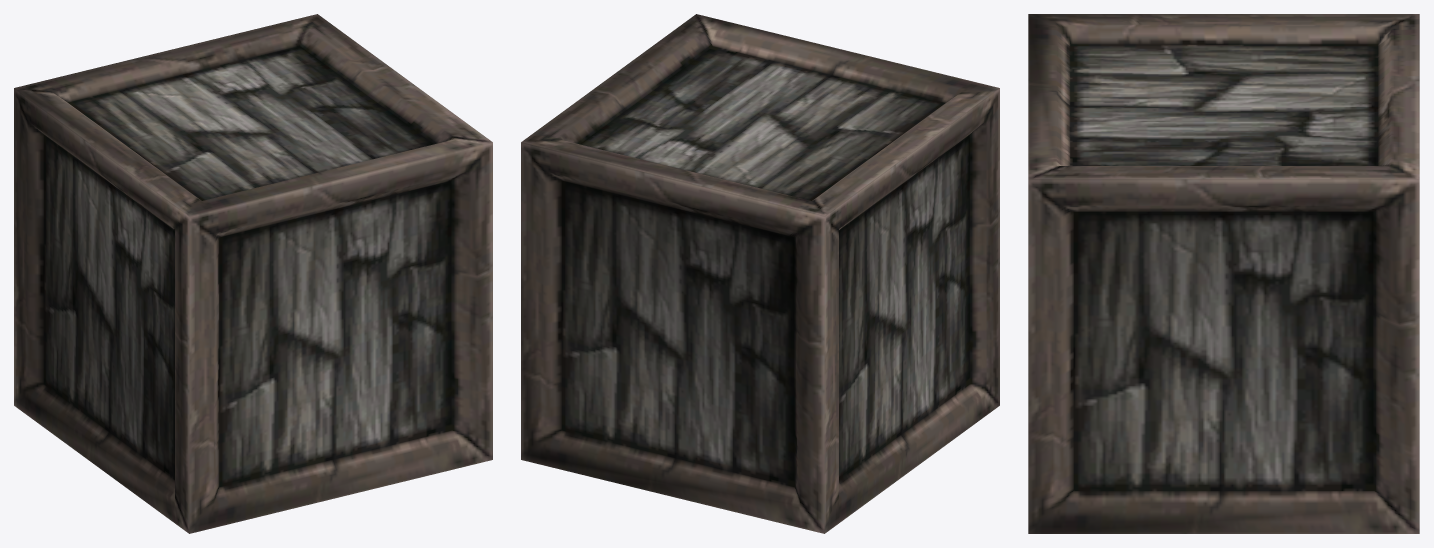
Rendered from INST_SWORDLIGHT_CRATE-DESTR.fbx.
3 renders of one model, left to right at view 1: azimuth 30°, elevation 25°; view 2: azimuth 150°, elevation 25°; view 3: azimuth 270°, elevation 25°, orthographic. The views are drawn at different scales.
Parts seen in each view (by area): view 1: INST_SWORDLIGHT_CRATE-DESTR; view 2: INST_SWORDLIGHT_CRATE-DESTR; view 3: INST_SWORDLIGHT_CRATE-DESTR.
Part boxes in pixels (box(x1,y1,x2,y2)): INST_SWORDLIGHT_CRATE-DESTR: box(14, 14, 492, 533); INST_SWORDLIGHT_CRATE-DESTR: box(521, 14, 999, 533); INST_SWORDLIGHT_CRATE-DESTR: box(1028, 14, 1419, 533).
Bounding box in the file's own units: 7000 × 7000 × 7000.
Materials: 1 (1 with a texture image).
